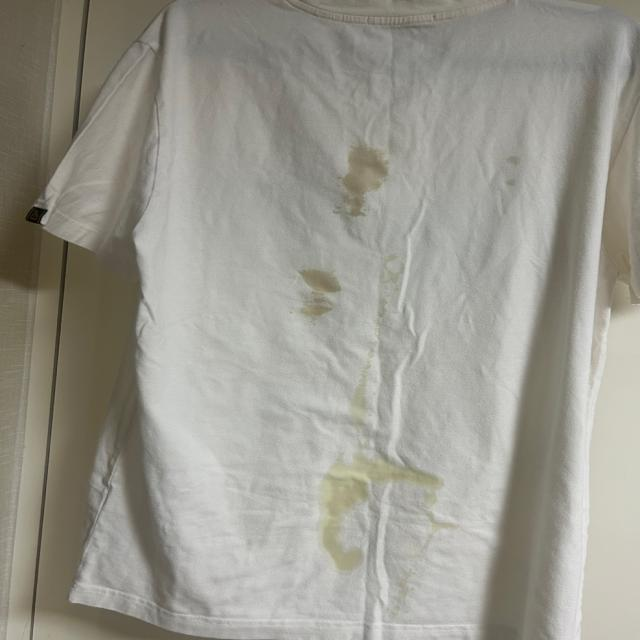stain: (316, 454, 420, 570), (338, 140, 393, 221), (339, 343, 376, 423), (293, 266, 337, 324), (421, 494, 463, 542), (491, 152, 529, 194), (382, 253, 408, 287)
